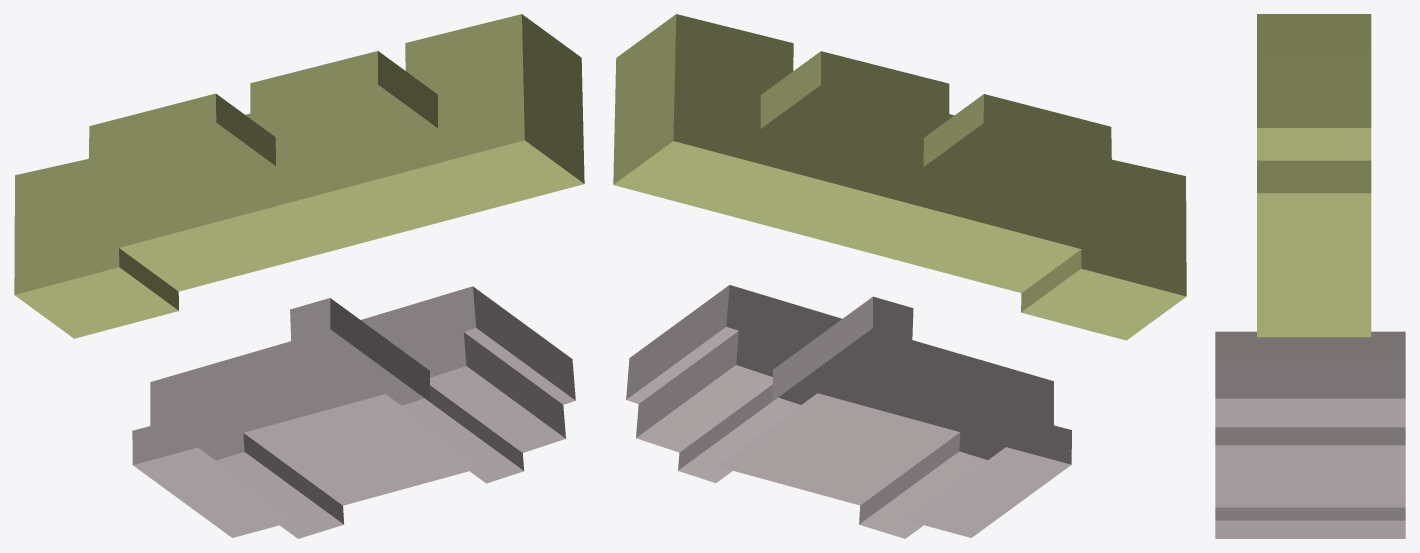
3 views of the same model, side by side, from view 1: azimuth 30°, elevation 25°; view 2: azimuth 150°, elevation 25°; view 3: azimuth 270°, elevation 25° (orthographic). The views are drawn at different scales.
Parts seen in each view (by area): view 1: 0_0_3_2_0_2_0_1_2; view 2: 0_0_3_2_0_2_0_1_2; view 3: 0_0_3_2_0_2_0_1_2.
Part boxes in pixels (x1,y1,x2,y2): 0_0_3_2_0_2_0_1_2: (14,14,584,538); 0_0_3_2_0_2_0_1_2: (613,14,1186,538); 0_0_3_2_0_2_0_1_2: (1215,14,1405,538).
Bounding box in the file's own units: 44.37 × 32.45 × 15.
